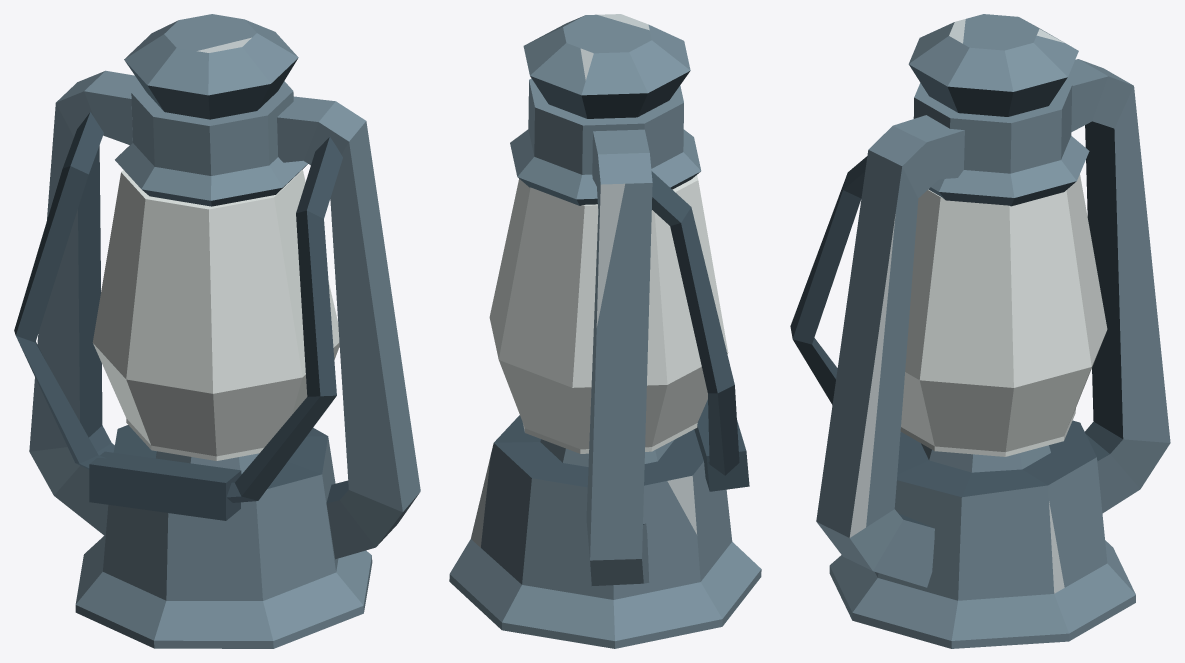
The model's file is Lantern.glb.
3 renders of one model, left to right at view 1: azimuth 30°, elevation 25°; view 2: azimuth 150°, elevation 25°; view 3: azimuth 270°, elevation 25°, orthographic.
Parts seen in each view (by area): view 1: Lantern; view 2: Lantern; view 3: Lantern.
Part boxes in pixels (bbox=[...]): Lantern: bbox=[14, 14, 420, 648]; Lantern: bbox=[449, 14, 761, 648]; Lantern: bbox=[790, 14, 1170, 648].
Size of the model in its own units: 0.2724 by 0.4809 by 0.2974.
